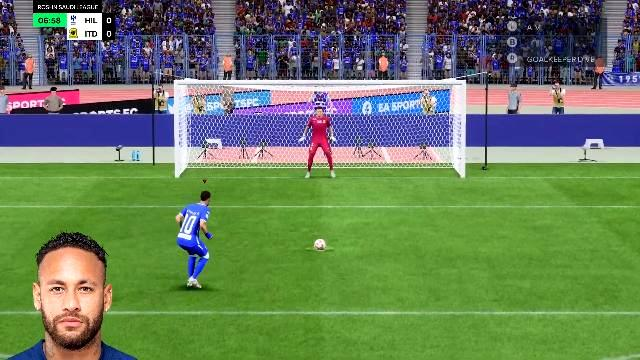bottom-left: (182, 140, 280, 180)
bottom-right: (364, 140, 460, 180)
center-down: (282, 140, 362, 180)
center-up: (281, 87, 363, 139)
circle: (306, 246, 334, 250)
football: (314, 240, 326, 248)
goalkeeper: (302, 107, 342, 181)
player: (170, 190, 226, 288)
top-left: (182, 88, 278, 138)
top-right: (364, 88, 460, 139)
